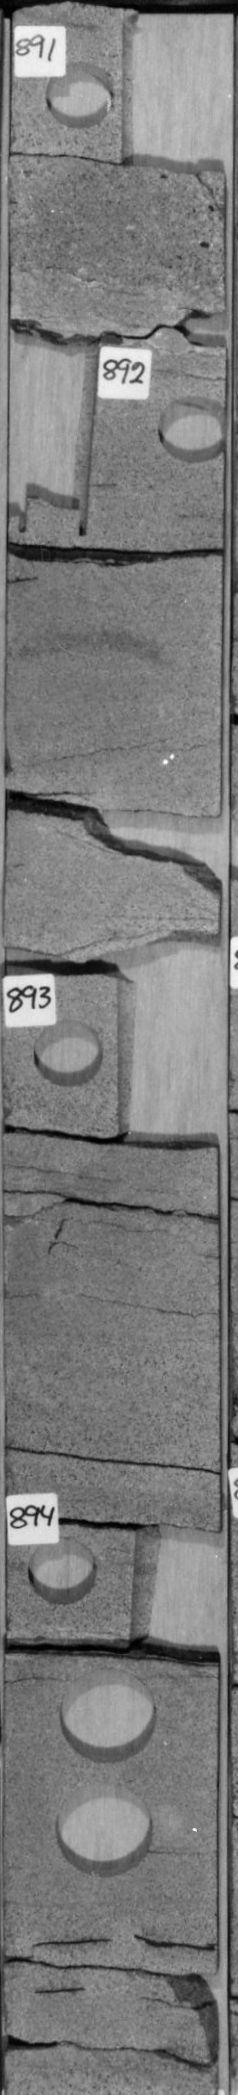hplug: (17, 1528, 103, 1609), (150, 387, 227, 470), (37, 55, 122, 130), (29, 1014, 107, 1092)
scal: (49, 1778, 163, 1883), (53, 1670, 163, 1768)
vplug: (114, 970, 221, 1157), (13, 322, 103, 538), (120, 16, 222, 179), (124, 1516, 218, 1667)
